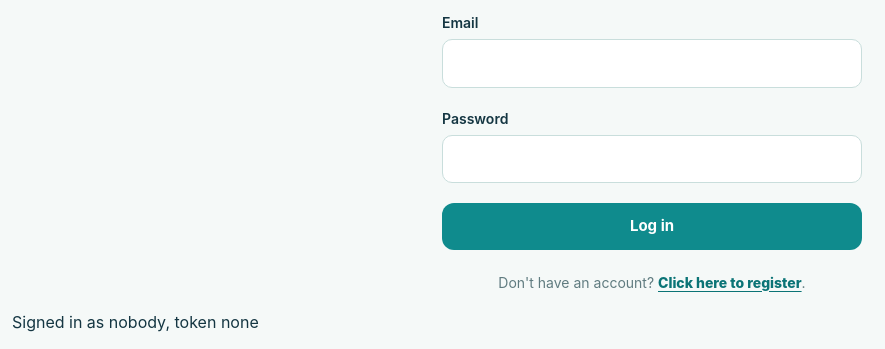
Login — success stores the session and navigates onward › persists the access token to localStorage and exposes it via context
This screenshot has width=885, height=349.
Type "observer@example.org" into the field labelled "Email" at (652, 63), box [442,39,862,88]
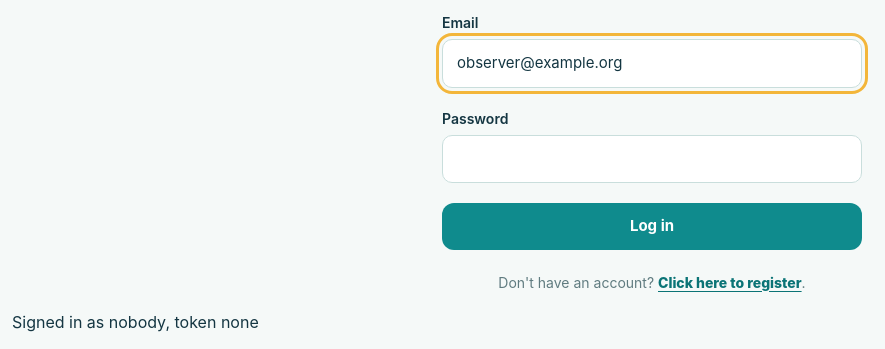
Type "correct-horse-battery" into the password field labelled "Password" at (652, 159), box [442,134,862,183]
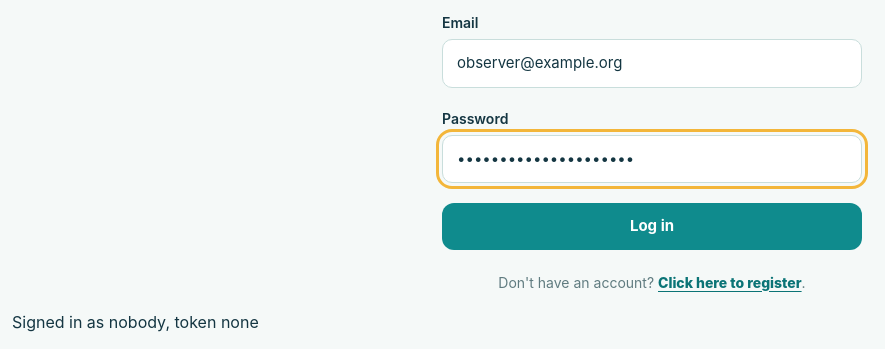
Click the button "Log in" at (652, 226), box [442,203,862,250]
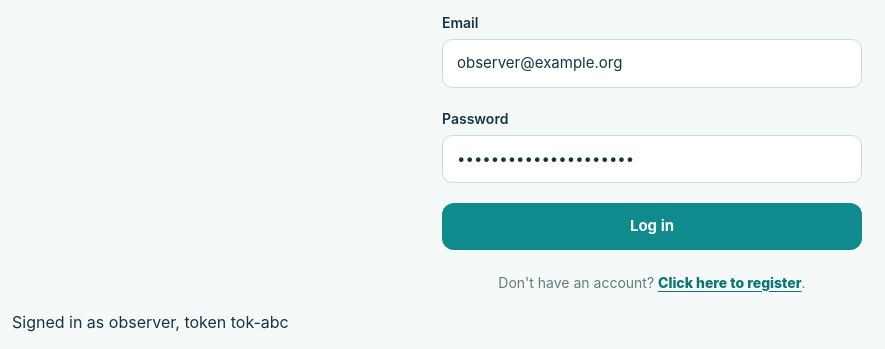
Expected: the text "Signed in as observer, token tok-abc" is shown, [12,312,289,332]
